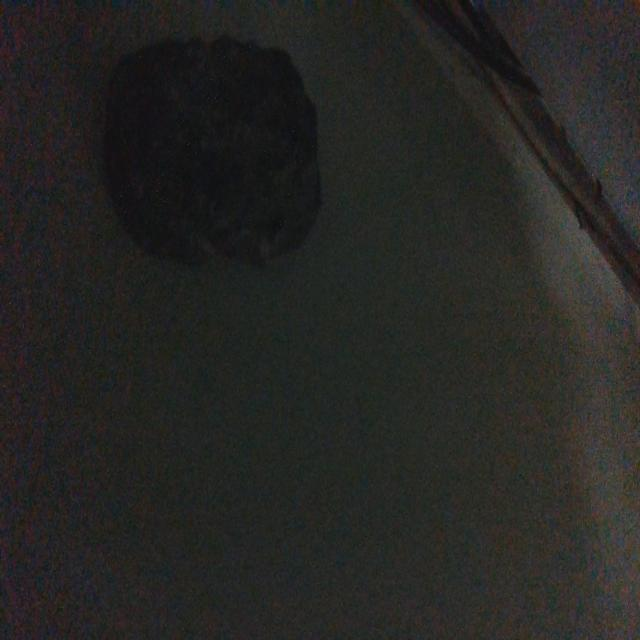stone: (104, 33, 326, 275)
